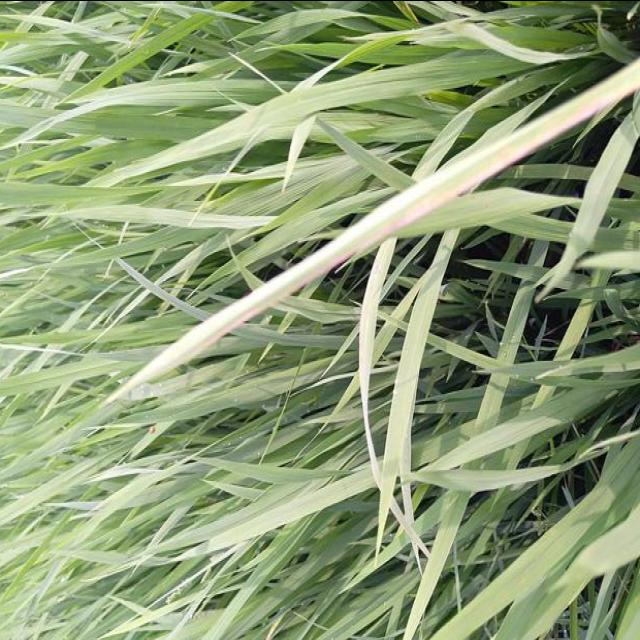Leaf Blight: (108, 94, 607, 399)
